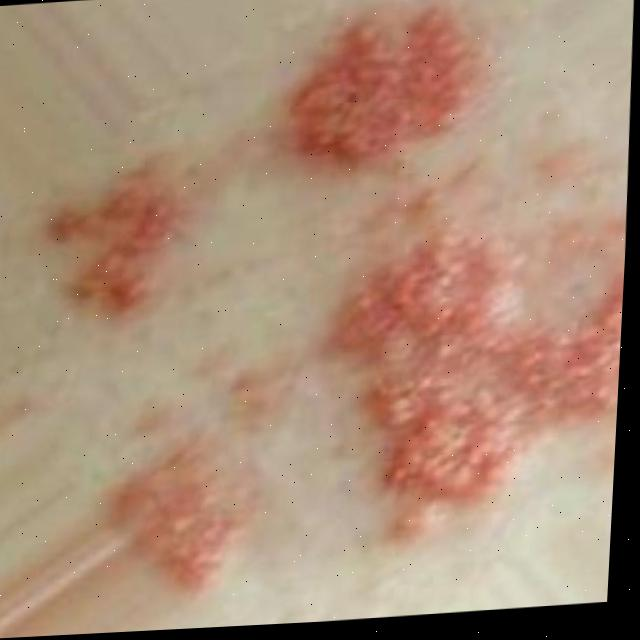Shingles: (325, 177, 629, 544), (292, 0, 481, 170), (92, 429, 260, 602), (42, 174, 189, 317)
